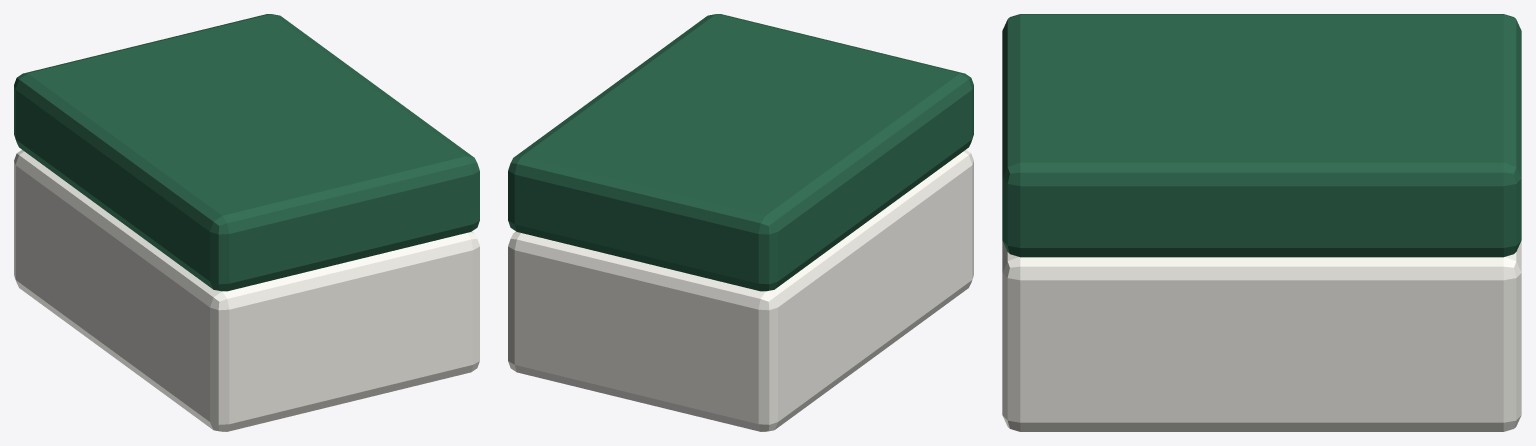
Rendered from mahjong.glb.
3 views of the same model, side by side, from view 1: azimuth 30°, elevation 25°; view 2: azimuth 150°, elevation 25°; view 3: azimuth 270°, elevation 25° (orthographic). The views are drawn at different scales.
Parts seen in each view (by area): view 1: Cube.001, Cube; view 2: Cube.001, Cube; view 3: Cube.001, Cube.
Part boxes in pixels (<box>): Cube.001: <box>14,14,479,291</box>; Cube: <box>14,150,479,431</box>; Cube.001: <box>508,14,973,291</box>; Cube: <box>508,150,973,431</box>; Cube.001: <box>1002,14,1521,257</box>; Cube: <box>1002,241,1521,431</box>.
Size of the model in its own units: 2.6 by 2 by 3.5.
